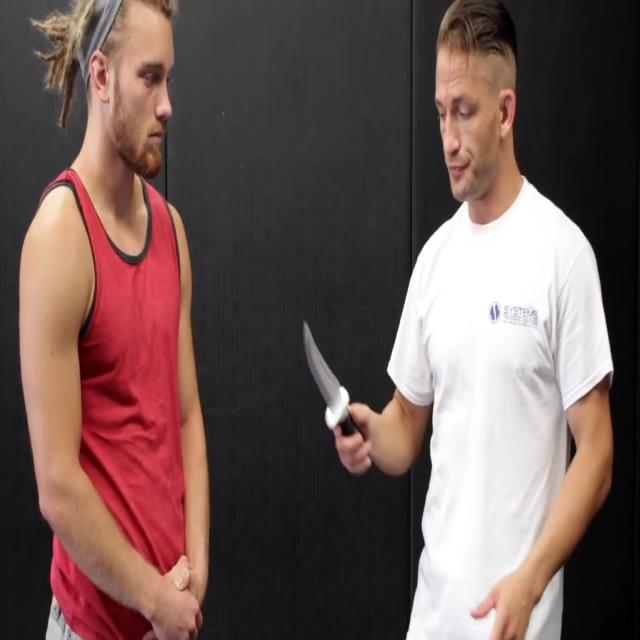knife: (303, 318, 358, 440)
